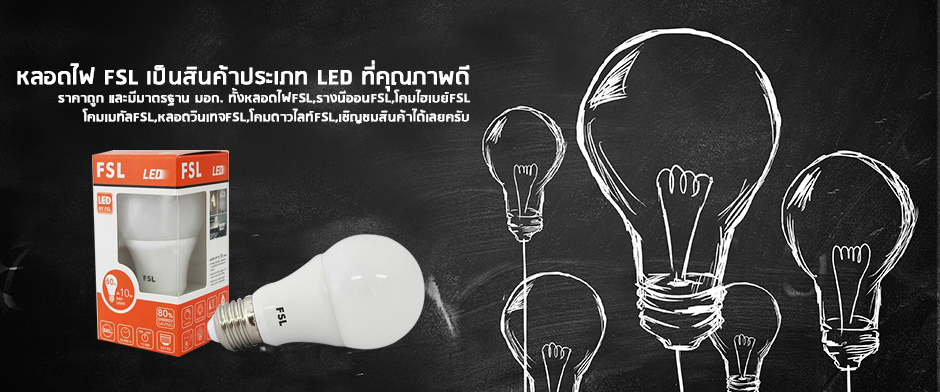Light_bulb: (196, 226, 436, 365)
